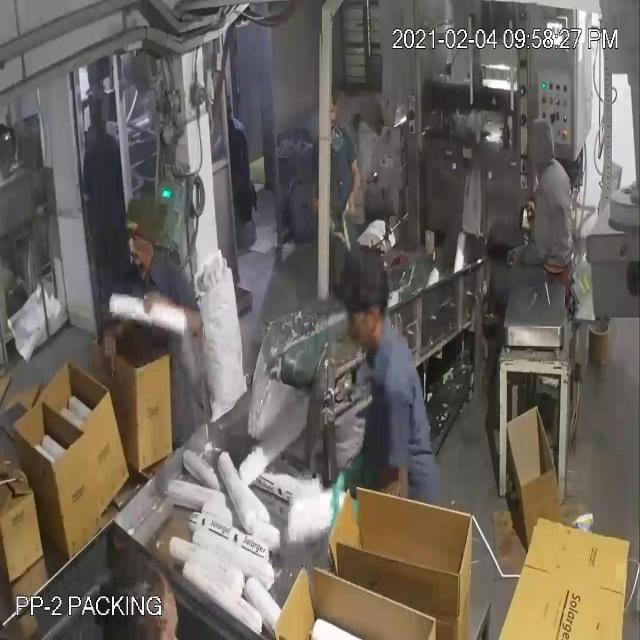No_Gloves: (35, 56, 354, 326)
